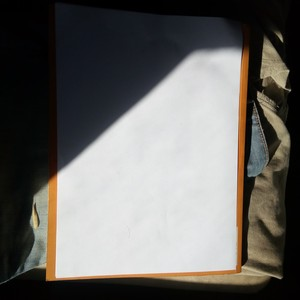base: (59, 16, 235, 269)
